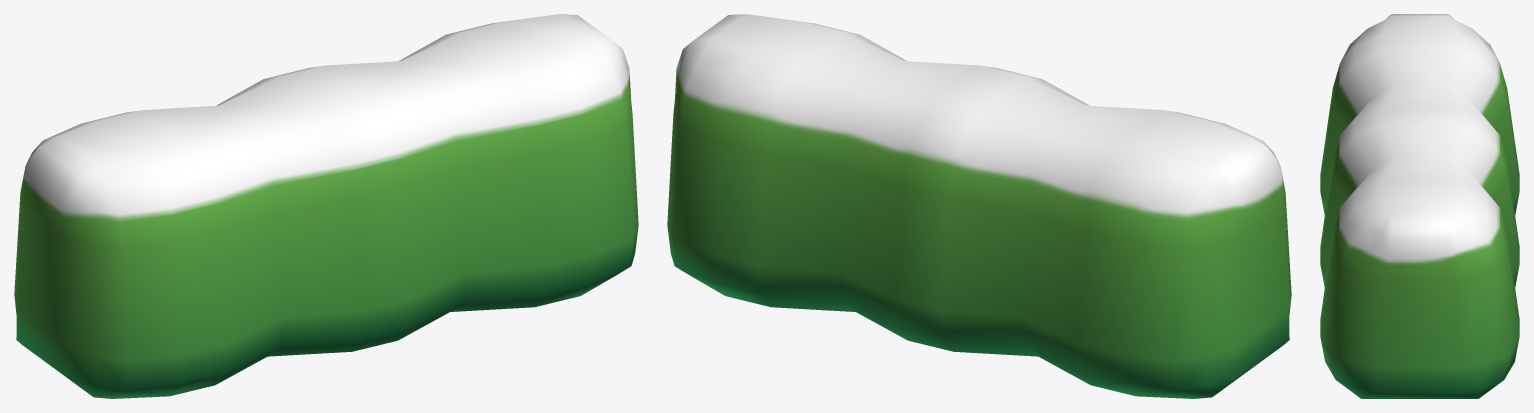
Rendered from Bush_Snow.glb.
3 views of the same model, side by side, from view 1: azimuth 30°, elevation 25°; view 2: azimuth 150°, elevation 25°; view 3: azimuth 270°, elevation 25° (orthographic). The views are drawn at different scales.
Parts seen in each view (by area): view 1: hedge_straight_long; view 2: hedge_straight_long; view 3: hedge_straight_long.
Part boxes in pixels (x1=…): hedge_straight_long: x1=14, y1=14, x2=638, y2=398; hedge_straight_long: x1=667, y1=14, x2=1291, y2=398; hedge_straight_long: x1=1320, y1=14, x2=1519, y2=398.
Size of the model in its own units: 4 by 1.5 by 1.5.
Materials: 1 (1 with a texture image).
